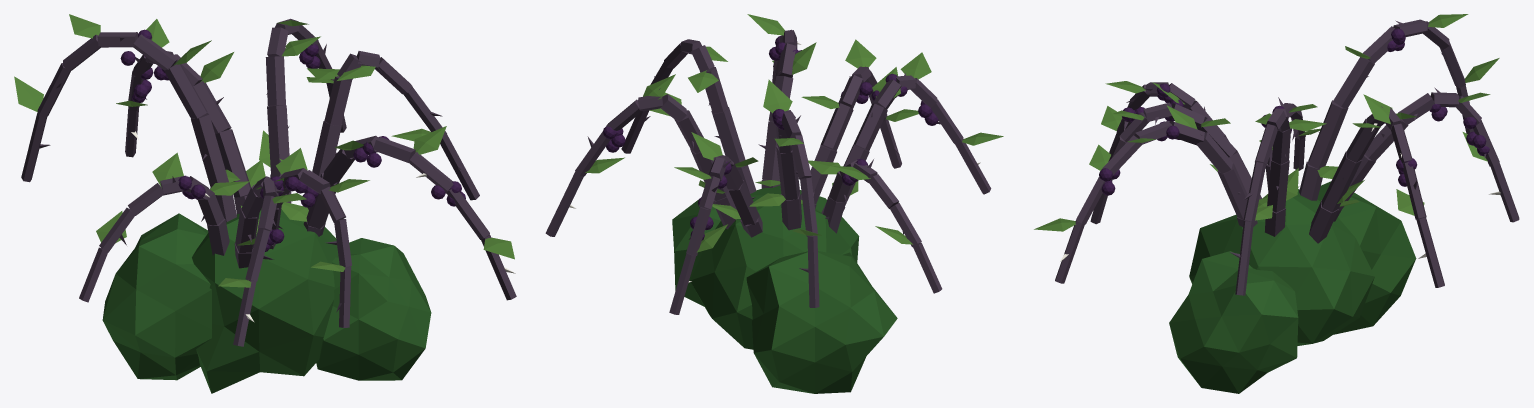
The model's file is zarza.glb.
3 views of the same model, side by side, from view 1: azimuth 30°, elevation 25°; view 2: azimuth 150°, elevation 25°; view 3: azimuth 270°, elevation 25° (orthographic). The views are drawn at different scales.
Parts seen in each view (by area): view 1: zarza_hoja_muy_osc, zarza_zarza, zarza_zarza_hoja, zarza_mora; view 2: zarza_hoja_muy_osc, zarza_zarza, zarza_zarza_hoja, zarza_mora; view 3: zarza_hoja_muy_osc, zarza_zarza, zarza_zarza_hoja, zarza_mora.
Part boxes in pixels (<box>): zarza_hoja_muy_osc: <box>102,208,431,393</box>; zarza_zarza: <box>21,18,516,346</box>; zarza_zarza_hoja: <box>14,14,514,287</box>; zarza_mora: <box>120,29,465,251</box>; zarza_hoja_muy_osc: <box>672,185,897,393</box>; zarza_zarza: <box>545,29,991,314</box>; zarza_zarza_hoja: <box>585,14,1003,252</box>; zarza_mora: <box>603,36,938,240</box>; zarza_hoja_muy_osc: <box>1169,181,1416,393</box>; zarza_zarza: <box>1055,19,1519,295</box>; zarza_zarza_hoja: <box>1034,14,1499,231</box>; zarza_mora: <box>1099,28,1489,195</box>.
Size of the model in its own units: 2.5 by 2.12 by 3.07.
